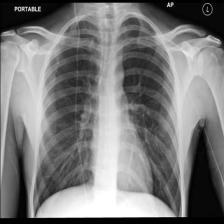normal: (31, 11, 183, 218)
